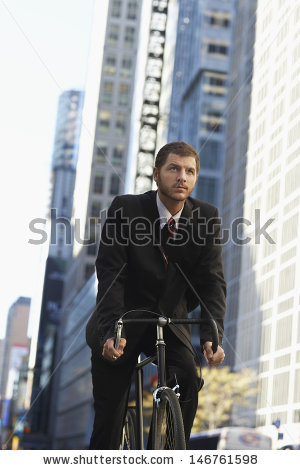bikerider: (67, 128, 235, 445)
